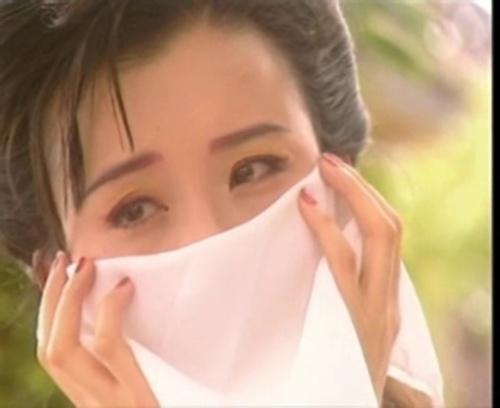OK: (60, 108, 345, 393)
